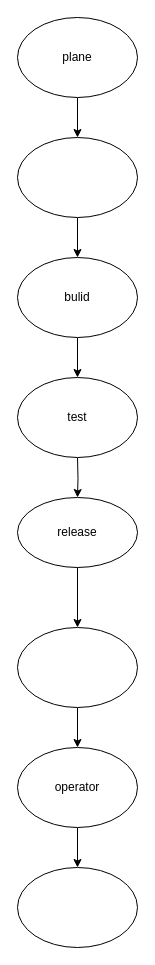
The diagram is 155 pixels wide and 965 high, and some of its shapes have lost their labels. The centre of each missing label's shape, as x and y in pixels:
deploy: point (77, 667)
develop: point (77, 177)
monitors: point (77, 907)
